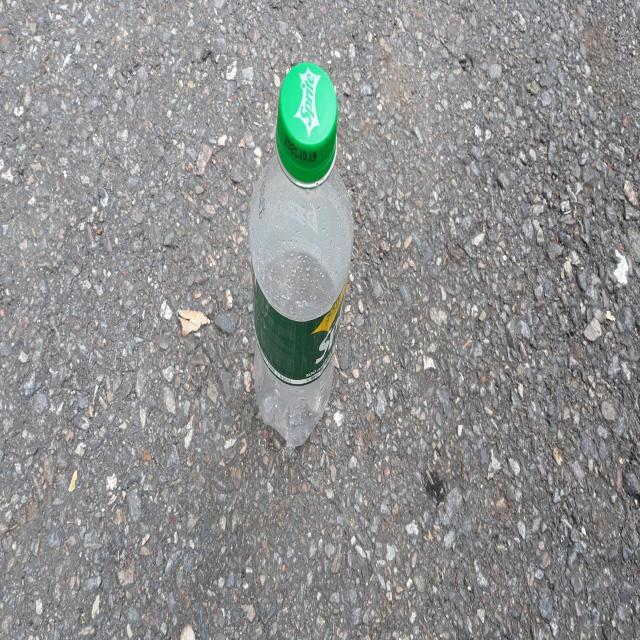plastic: (249, 61, 354, 446)
